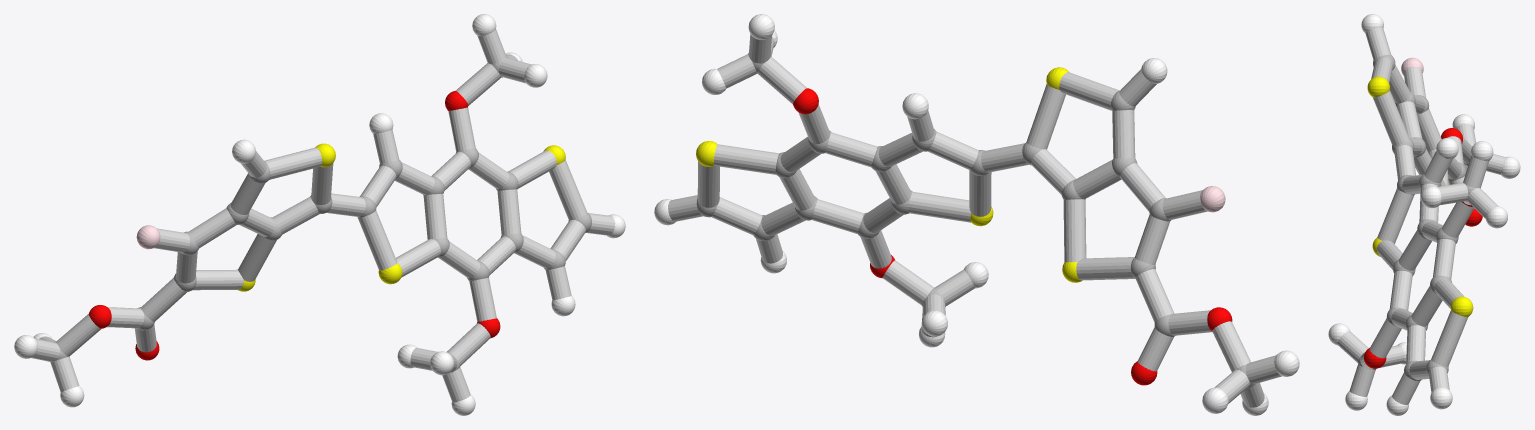
Rendered from color.glb.
The picture shows the model from 3 angles, left to right: view 1: azimuth 30°, elevation 25°; view 2: azimuth 150°, elevation 25°; view 3: azimuth 270°, elevation 25°; orthographic projection. The views are drawn at different scales.
Parts seen in each view (by area): view 1: grp15205, grp8689, grp1, grp13395, grp7241; view 2: grp15205, grp8689, grp1, grp13395, grp7241; view 3: grp15205, grp8689, grp1, grp7241, grp13395, grp14843.
Part boxes in pixels (<box>): grp15205: <box>31,29,615,402</box>; grp8689: <box>14,14,625,415</box>; grp1: <box>50,57,591,371</box>; grp13395: <box>88,91,500,360</box>; grp7241: <box>238,143,565,291</box>; grp15205: <box>668,34,1281,407</box>; grp8689: <box>654,14,1299,415</box>; grp1: <box>696,53,1254,388</box>; grp13395: <box>793,88,1232,385</box>; grp7241: <box>696,67,1082,282</box>; grp15205: <box>1337,27,1505,404</box>; grp8689: <box>1328,14,1520,415</box>; grp1: <box>1358,54,1480,381</box>; grp7241: <box>1367,76,1473,317</box>; grp13395: <box>1364,128,1482,368</box>; grp14843: <box>1401,57,1423,75</box>.
Size of the model in its own units: 17.16 by 9.05 by 5.12.
